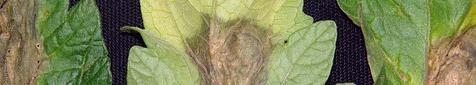Tomato mold leaf: (131, 0, 357, 85), (333, 0, 476, 85), (0, 0, 120, 85)
